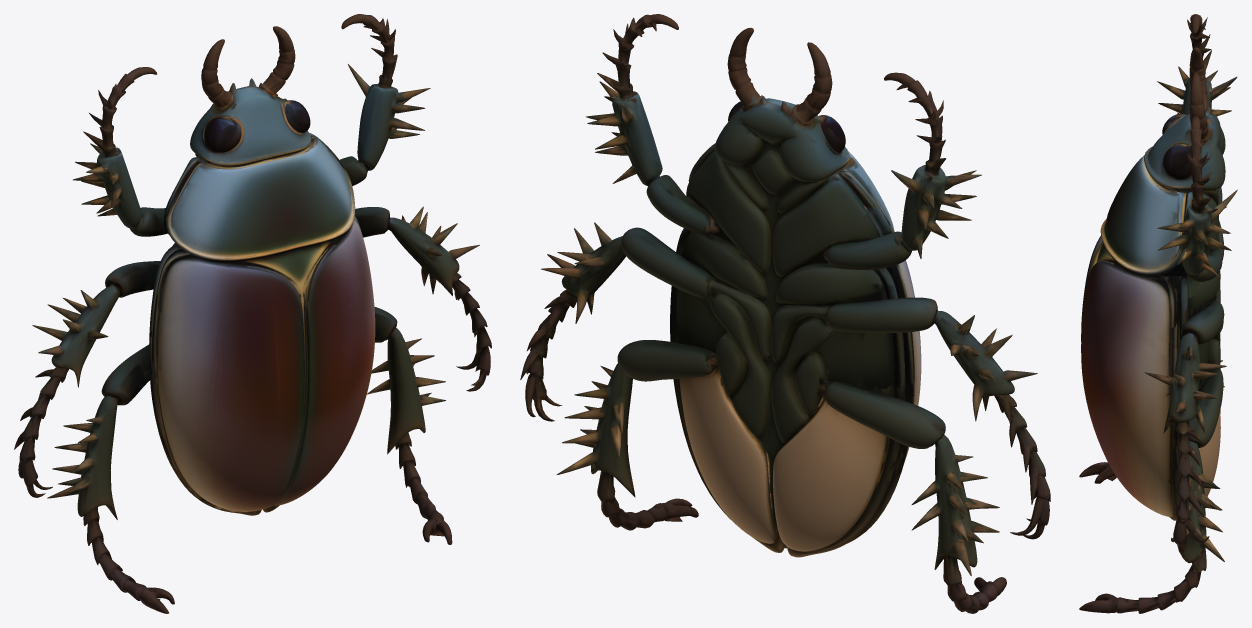
File: shellbug.glb
The picture shows the model from 3 angles, left to right: view 1: azimuth 30°, elevation 25°; view 2: azimuth 150°, elevation 25°; view 3: azimuth 270°, elevation 25°; orthographic projection. The views are drawn at different scales.
Parts seen in each view (by area): view 1: node_0; view 2: node_0; view 3: node_0.
Part boxes in pixels (left/top/right/bottom): node_0: left=14, top=14, right=491, bottom=613; node_0: left=520, top=14, right=1050, bottom=613; node_0: left=1079, top=14, right=1237, bottom=613.
Size of the model in its own units: 0.9831 by 1 by 0.2976.
Materials: 1 (1 with a texture image).
